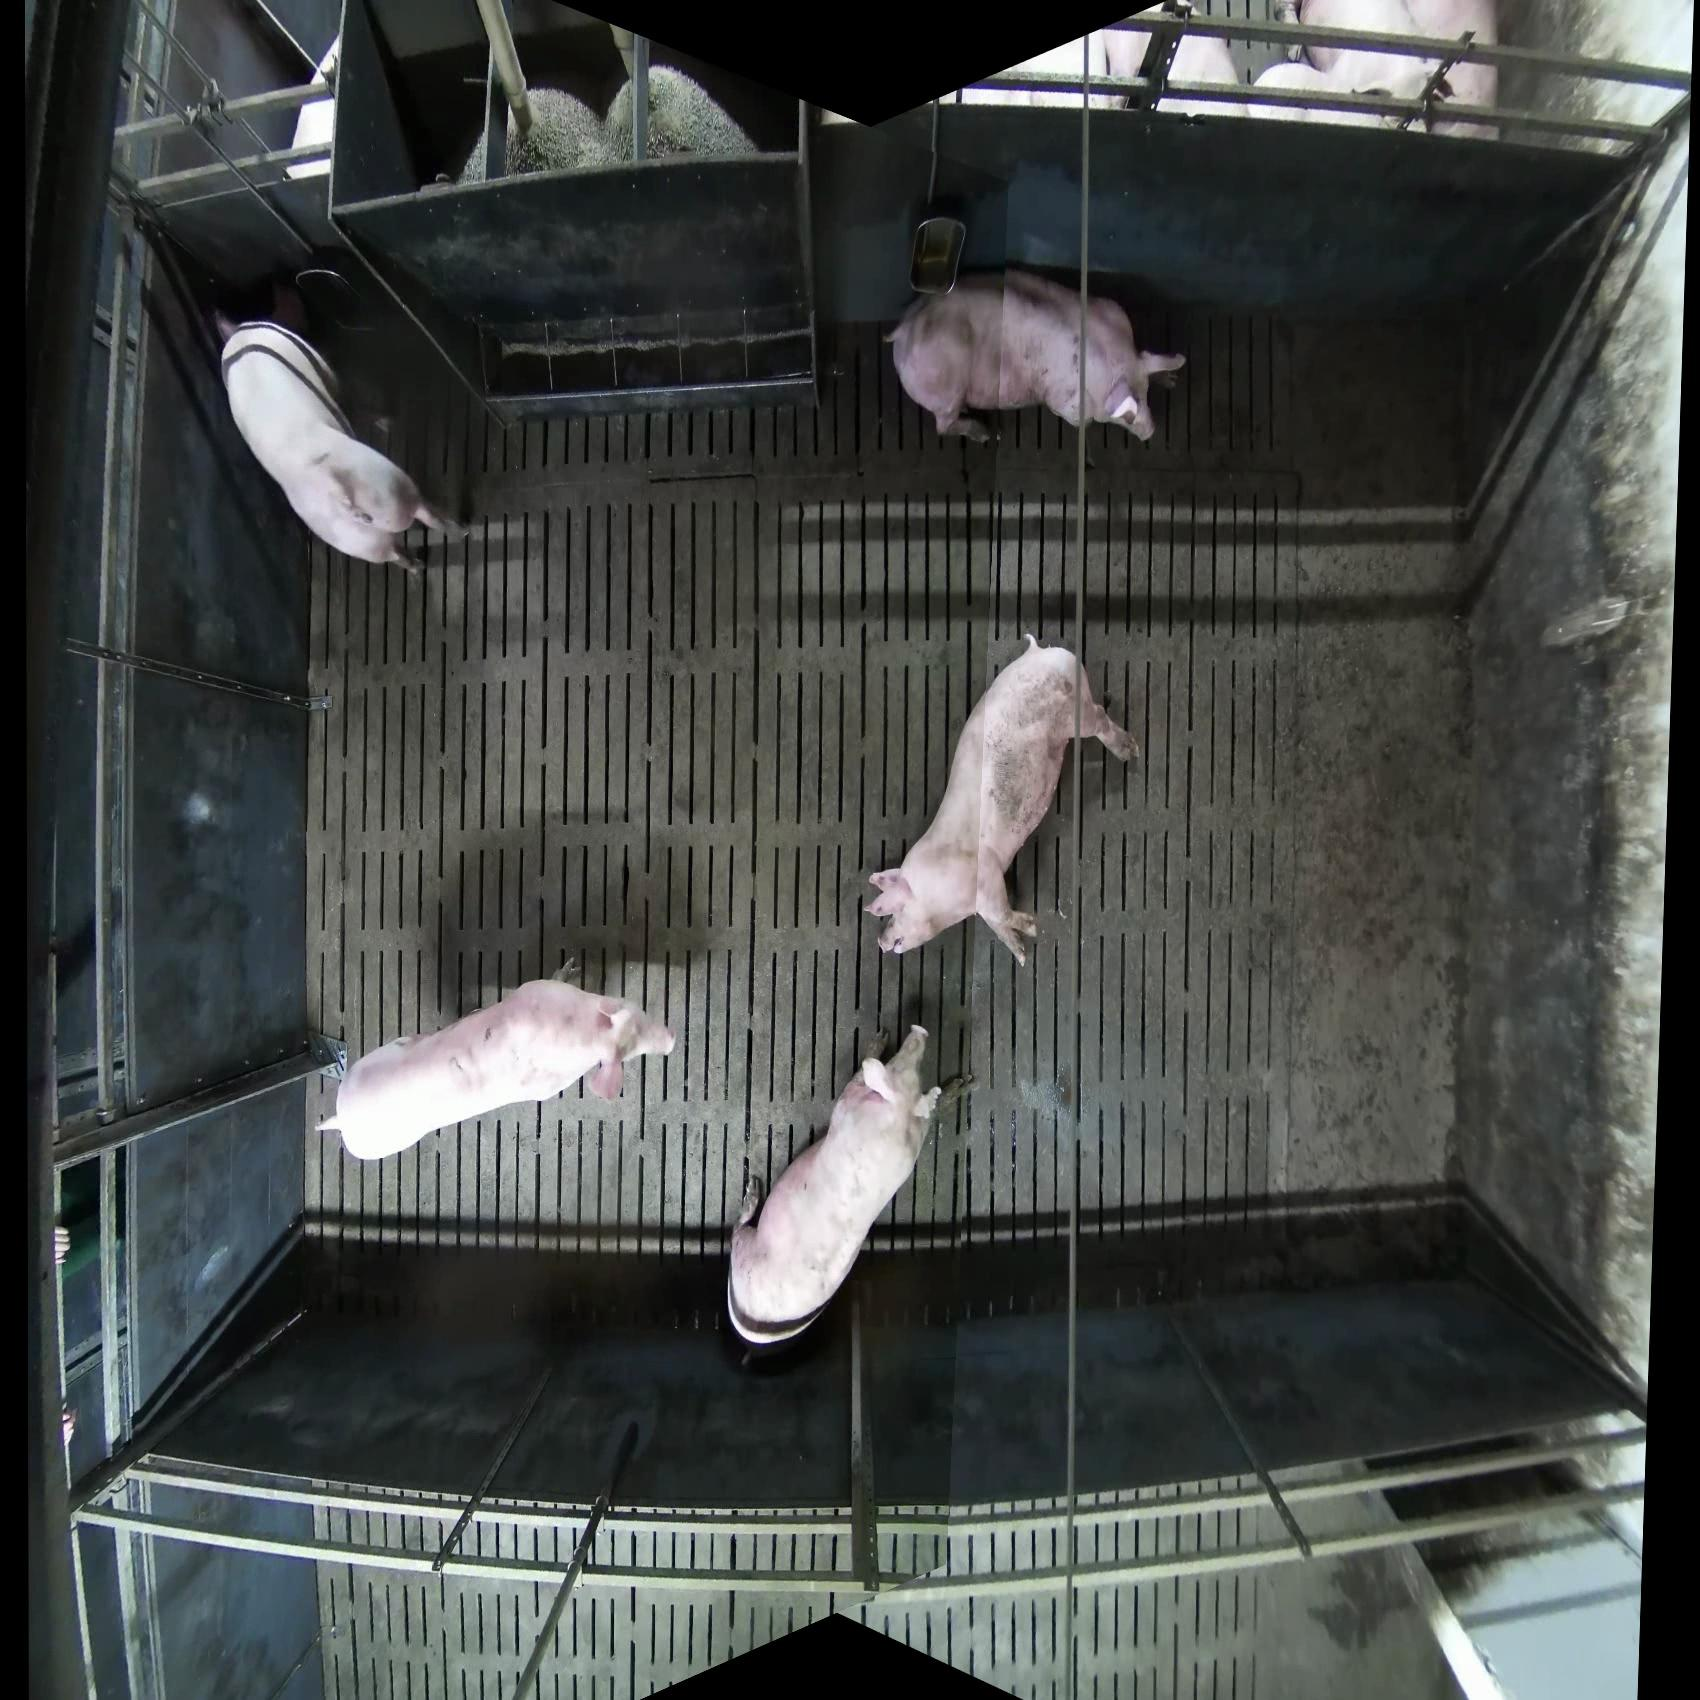pig: (177, 269, 462, 610), (862, 632, 1140, 970), (725, 1021, 978, 1350), (318, 967, 677, 1163), (884, 268, 1188, 445), (1249, 2, 1501, 139), (1096, 20, 1247, 120)
